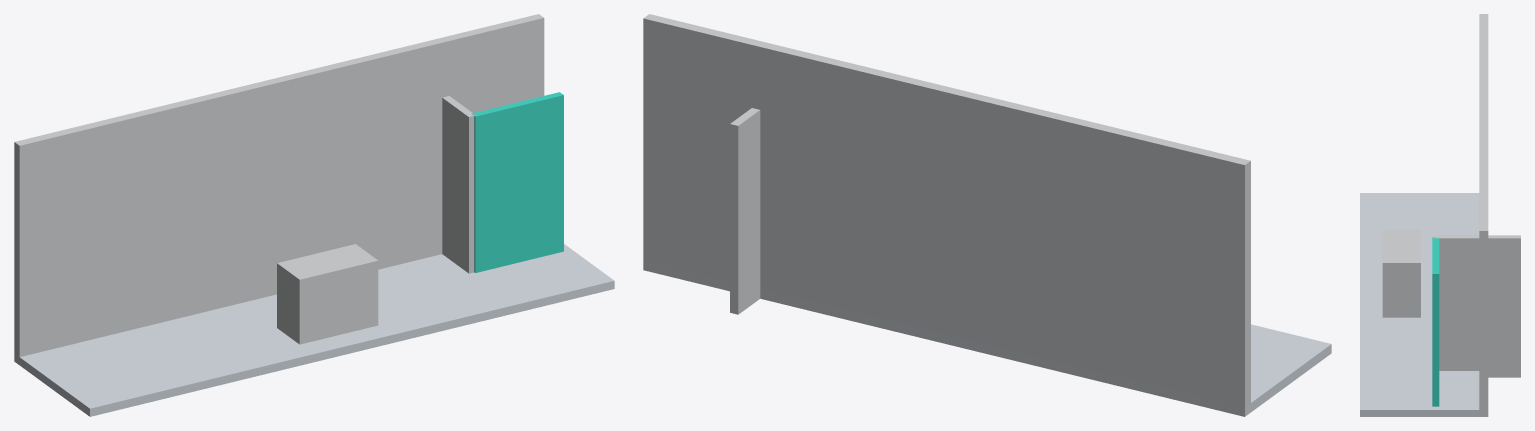
The picture shows the model from 3 angles, left to right: view 1: azimuth 30°, elevation 25°; view 2: azimuth 150°, elevation 25°; view 3: azimuth 270°, elevation 25°; orthographic projection. The views are drawn at different scales.
Visible parts, largest first — view 1: Exhibition Booth Concept; view 2: Exhibition Booth Concept; view 3: Exhibition Booth Concept.
Boxes of the visible parts, x1,y1,x2,y2 form: Exhibition Booth Concept: (14,14,614,416); Exhibition Booth Concept: (643,14,1331,416); Exhibition Booth Concept: (1360,14,1520,416).
Size of the model in its own units: 8 by 3.2 by 2.5.
